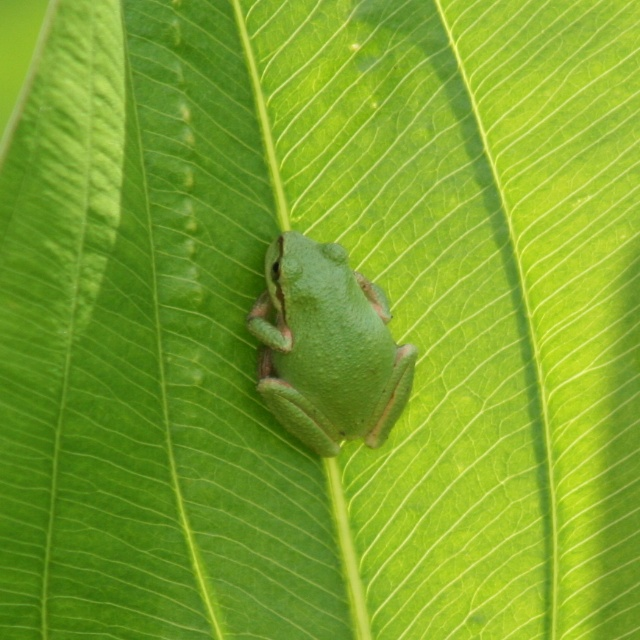Frog: (247, 231, 418, 458)
